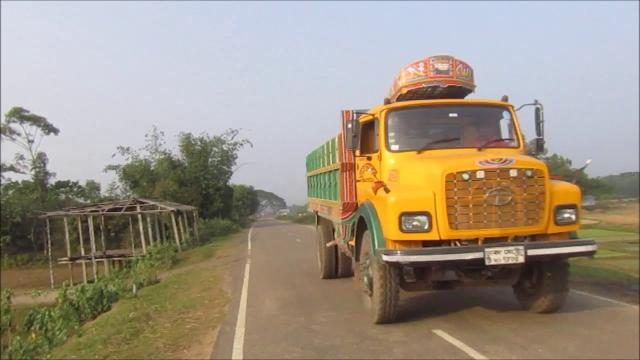truck: (296, 43, 596, 332)
